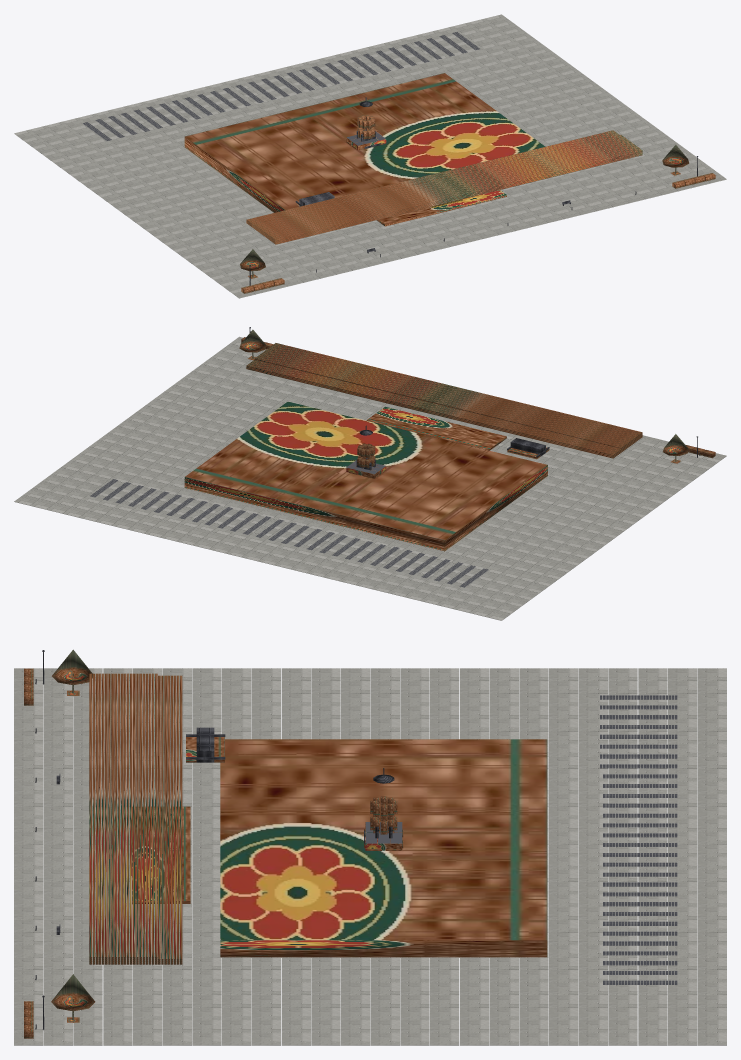
The picture shows the model from 3 angles, top to bottom: view 1: azimuth 30°, elevation 25°; view 2: azimuth 150°, elevation 25°; view 3: azimuth 270°, elevation 25°; orthographic projection. The views are drawn at different scales.
Parts seen in each view (by area): view 1: 11710_01_05540_012_01__plinth_ground_base, 11710_01_05540_012_02__mass_body_facade, 11710_01_05540_012_03__roof_deck_structure, 11710_01_05540_012_06__landscape_greenery; view 2: 11710_01_05540_012_01__plinth_ground_base, 11710_01_05540_012_02__mass_body_facade, 11710_01_05540_012_03__roof_deck_structure, 11710_01_05540_012_06__landscape_greenery, 11710_01_05540_012_03__roof_metal_ornament; view 3: 11710_01_05540_012_01__plinth_ground_base, 11710_01_05540_012_02__mass_body_facade, 11710_01_05540_012_03__roof_deck_structure, 11710_01_05540_012_06__landscape_greenery, 11710_01_05540_012_03__roof_metal_ornament, 11710_01_05540_012_05__window_sash_glass.
Boxes of the visible parts, <box> form: 11710_01_05540_012_01__plinth_ground_base: <box>14,14,726,298</box>; 11710_01_05540_012_02__mass_body_facade: <box>184,73,642,244</box>; 11710_01_05540_012_03__roof_deck_structure: <box>83,32,479,145</box>; 11710_01_05540_012_06__landscape_greenery: <box>240,144,715,293</box>; 11710_01_05540_012_01__plinth_ground_base: <box>14,336,726,620</box>; 11710_01_05540_012_02__mass_body_facade: <box>184,343,642,551</box>; 11710_01_05540_012_03__roof_deck_structure: <box>90,460,488,587</box>; 11710_01_05540_012_06__landscape_greenery: <box>239,329,715,463</box>; 11710_01_05540_012_03__roof_metal_ornament: <box>359,425,549,457</box>; 11710_01_05540_012_01__plinth_ground_base: <box>14,668,726,1045</box>; 11710_01_05540_012_02__mass_body_facade: <box>89,673,547,964</box>; 11710_01_05540_012_03__roof_deck_structure: <box>365,695,677,984</box>; 11710_01_05540_012_06__landscape_greenery: <box>24,649,95,1038</box>; 11710_01_05540_012_03__roof_metal_ornament: <box>186,727,394,783</box>; 11710_01_05540_012_05__window_sash_glass: <box>364,796,397,848</box>.
Bounding box in the file's own units: 120 × 13.2 × 95.95.
7 materials, 7 textured.
